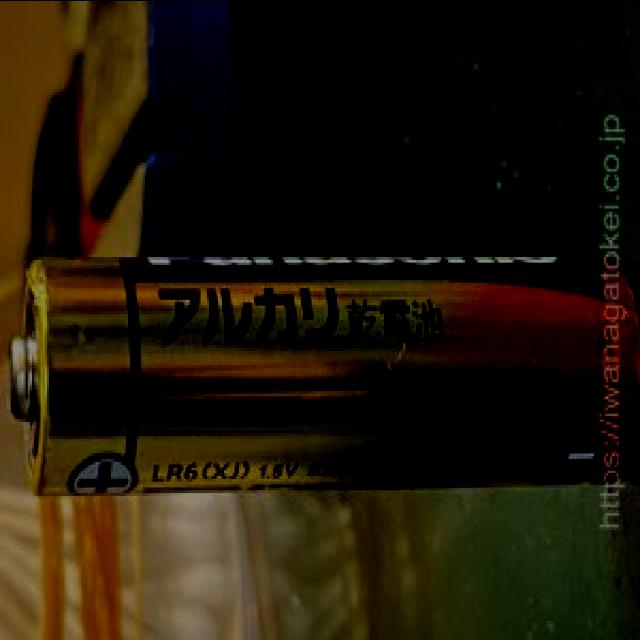AA: (8, 235, 636, 518)
